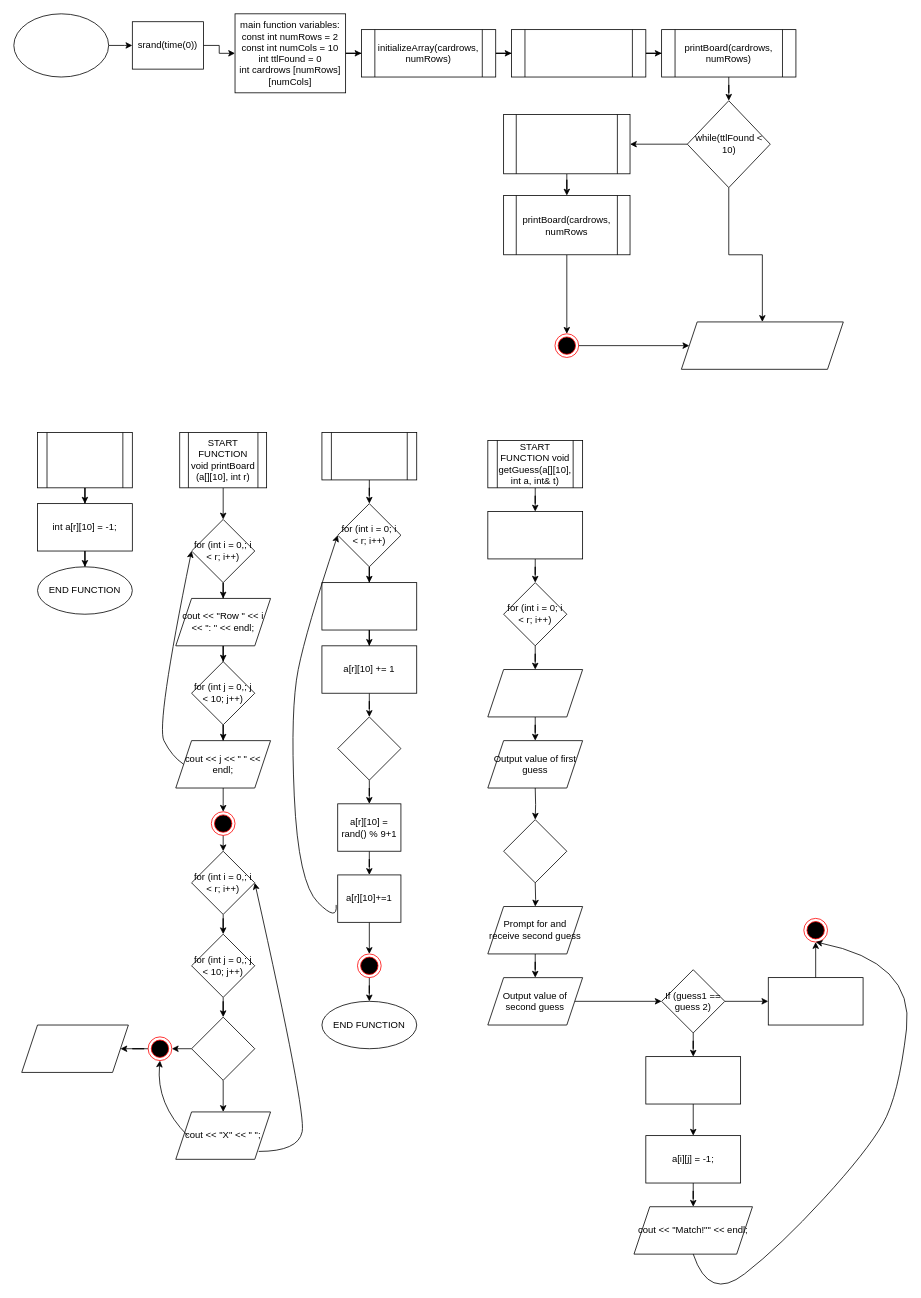
This 921x1298 diagram has some shape labels left out. Each missing label, with the centre of its shape:
a[r][10] = rand() % 9 + 1: [369,606]
cout << "Game Over! << endl;: [762,345]
cout << "No Match" << endl;: [815,1001]
cout << a[i][j] << " ";: [74,1048]
for (int j = 0; j < 10; j++): [535,851]
for (int j = 0; j< 10; j++): [369,748]
getGuess(cardrows, numRows, ttlFound): [566,144]
if a[i][j] = -1: [223,1048]
insetRand(cardrows, numRows): [578,53]
int guess1, guess2: [535,535]
Prompt for and receive first guess: [535,693]
START: [61,45]
START FUNCTION void initializeArray(int a[][10], int r): [84,460]
START FUNCTION void insertRand (int a[][10], int r): [369,456]
t++;: [693,1080]
